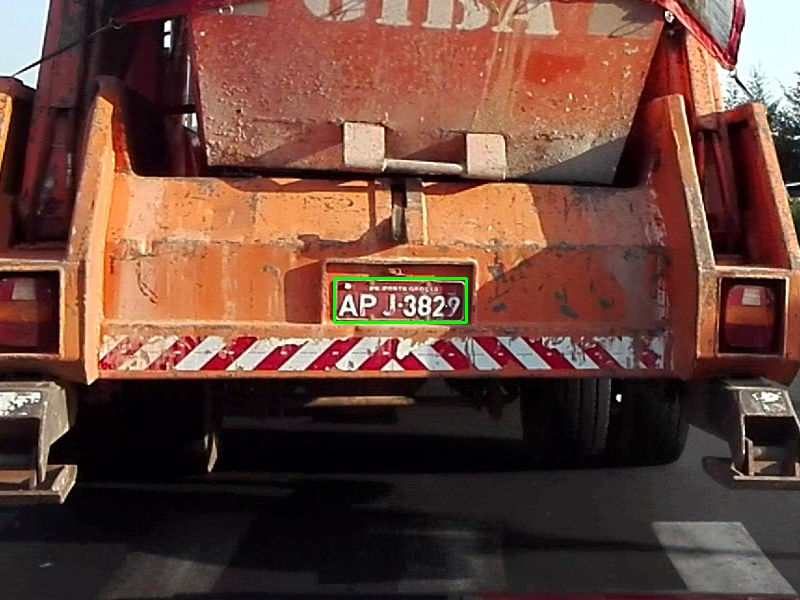placa: (334, 278, 466, 322)
